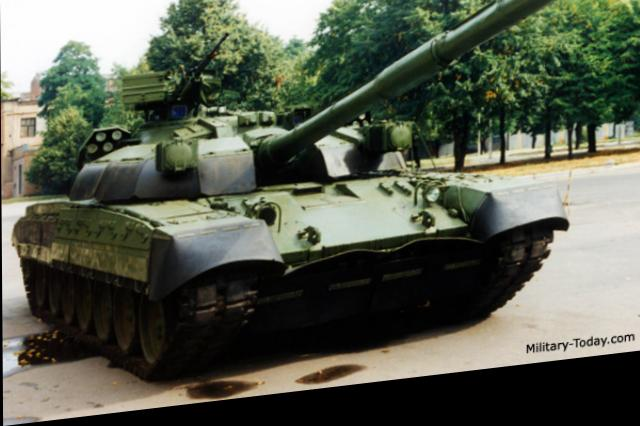tank: (9, 82, 544, 393)
